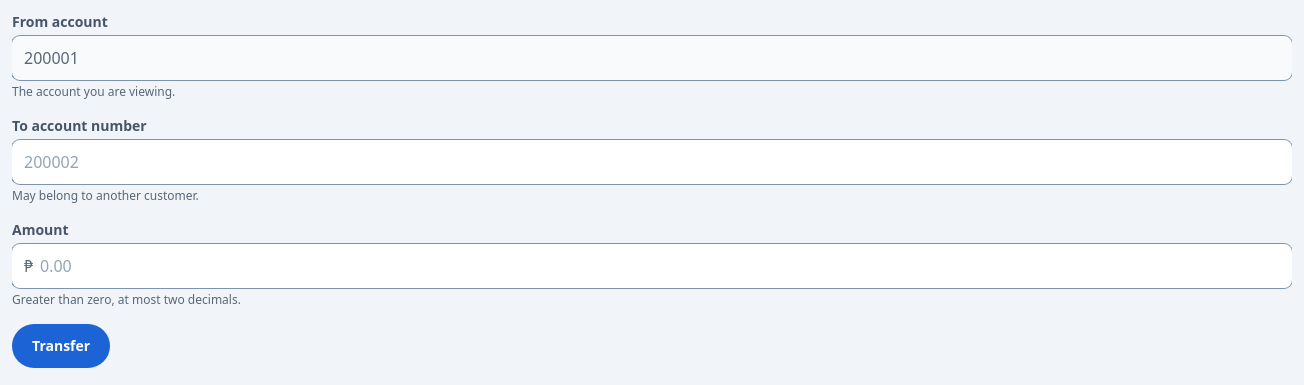
Test: TransferForm › rejects a transfer to the account being viewed
The image size is (1304, 385).
Step 1. Type "200001" into the field labelled "To account number" → (652, 162), box [12, 140, 1292, 184]
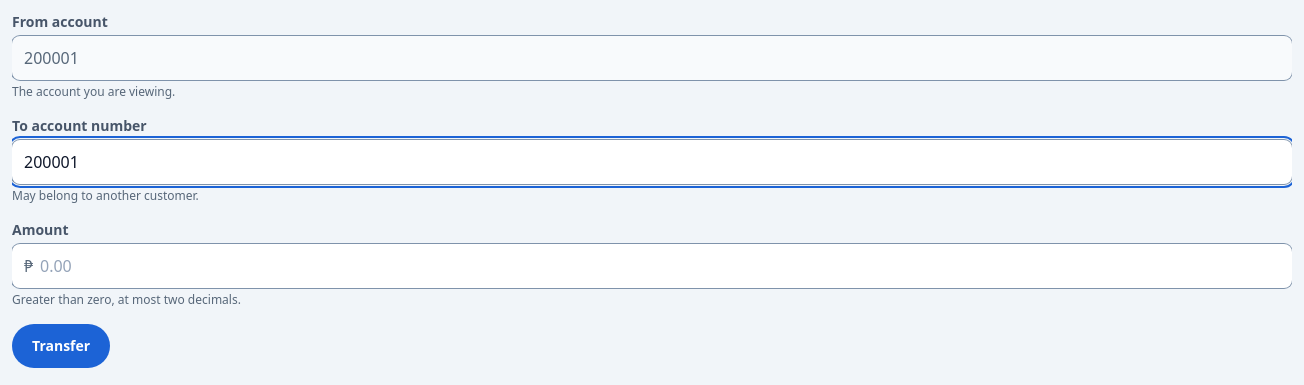
Step 2. Type "5" into the field labelled "Amount" → (652, 266), box [12, 244, 1292, 288]
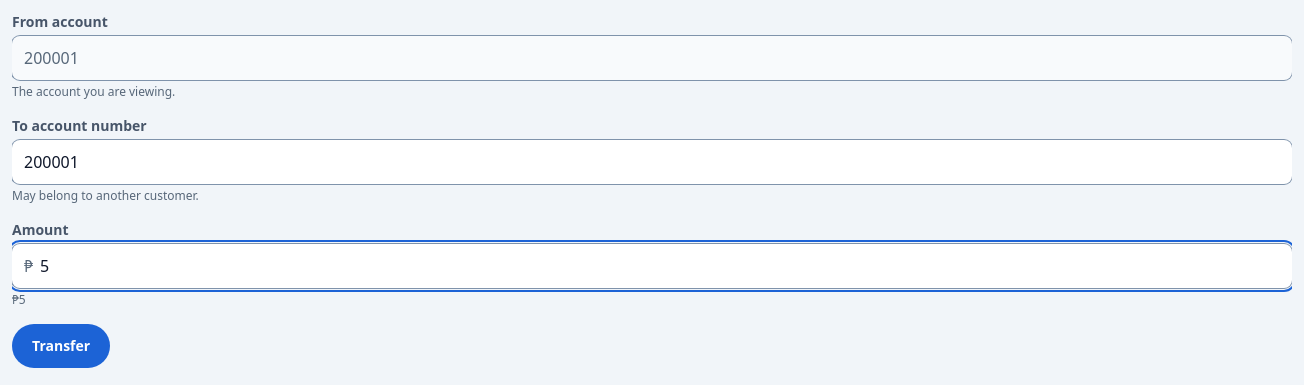
Step 3. Click the button "Transfer" → (61, 346), box [12, 324, 110, 368]
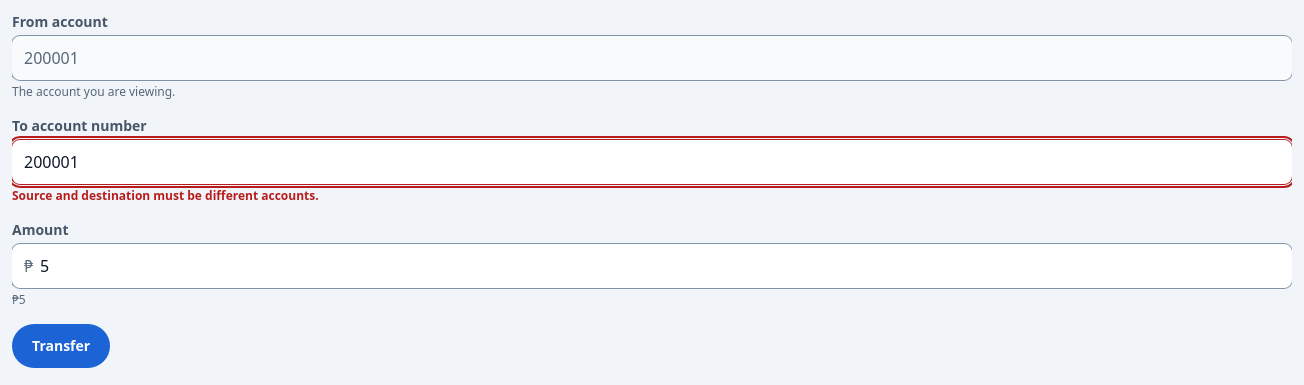
Expected: the message reads "Source and destination must be different accounts.", [12, 187, 319, 204]
